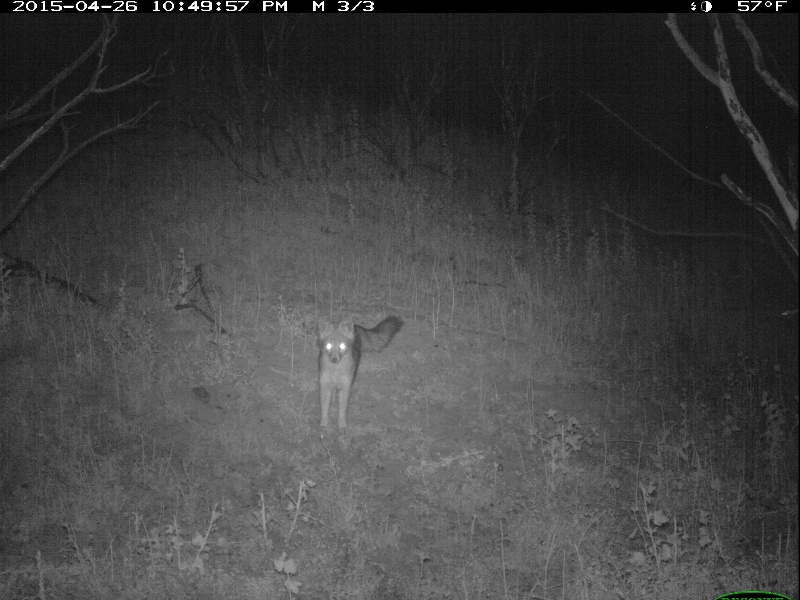fox: (313, 312, 407, 439)
